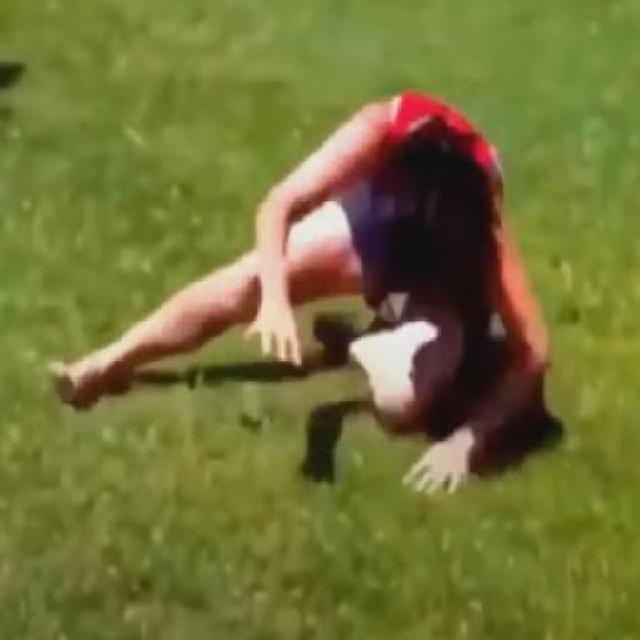fall: (48, 87, 548, 504)
